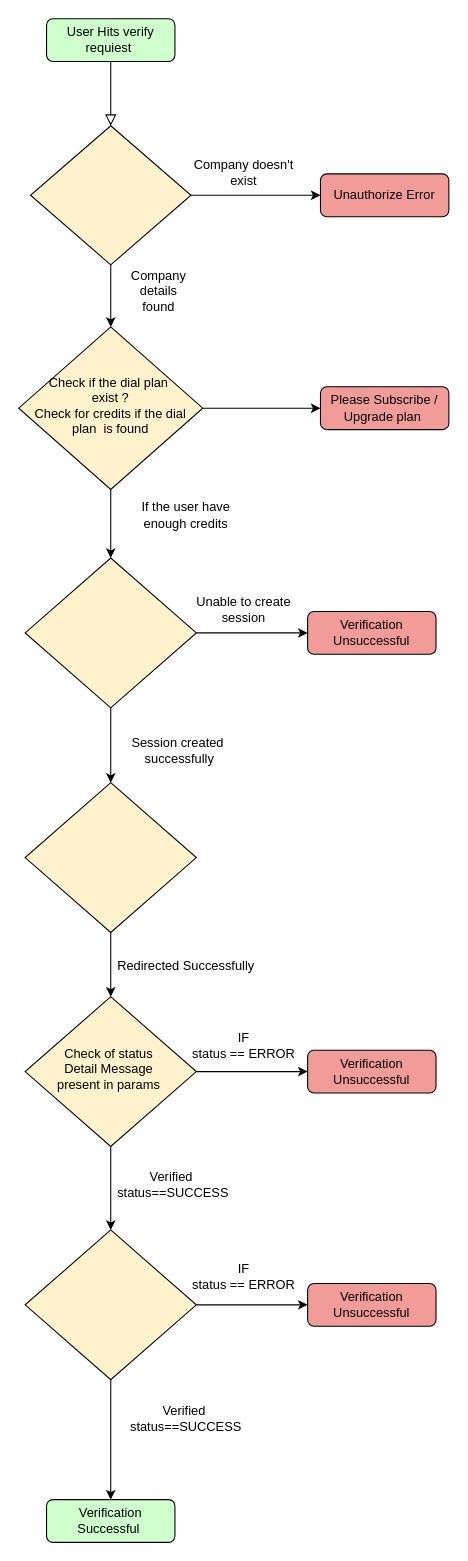
Some shapes in this 468 by 1561 pixel diagram are drawn without their labels. The centre of each missing label's shape, as x and y in pixels:
"Call Get Line Identity and confirm the sessionId" belongs at (110,1304).
"Create Redirect URL and send it to Zumigo" belongs at (110,857).
"Hit create Session API of Zumigo" belongs at (110,632).
"Verify the company details present in JWT" belongs at (110,195).
